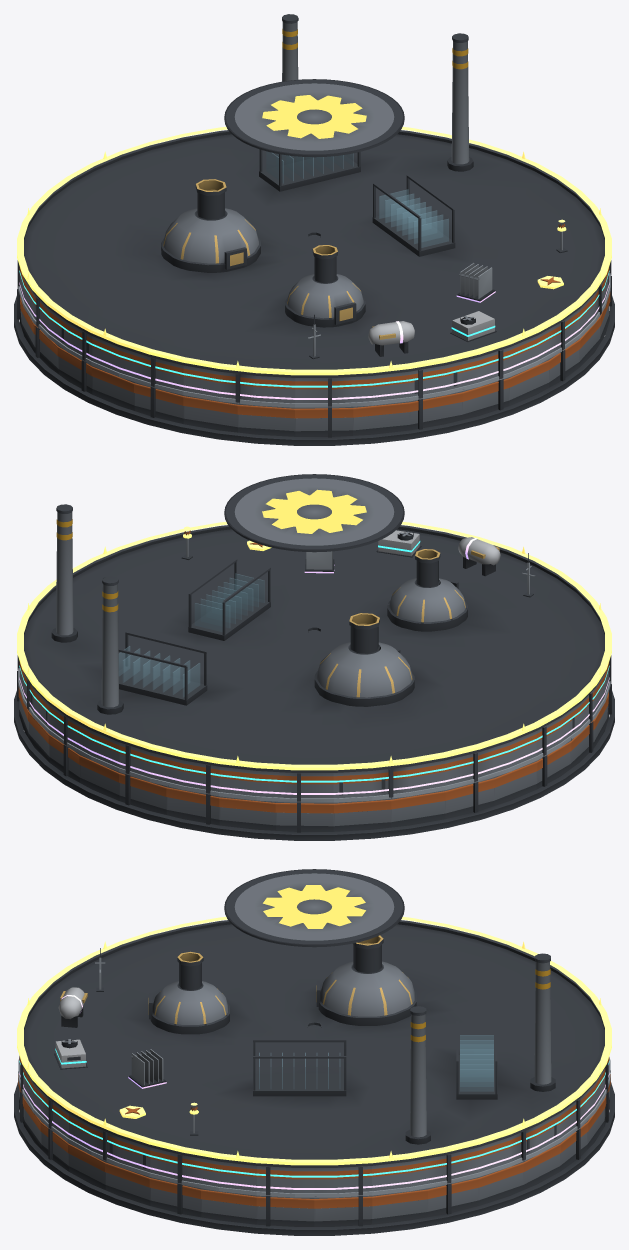
Rendered from glassworks_xl_far.glb.
3 views of the same model, one above another, from view 1: azimuth 30°, elevation 25°; view 2: azimuth 150°, elevation 25°; view 3: azimuth 270°, elevation 25° (orthographic).
Visible parts, largest first — view 1: Roof, Base, L5, L4, L2, L3; view 2: Roof, Base, L5, L2, L4, L3; view 3: Roof, Base, L5, L4, L2, L3.
Part boxes in pixels (box(x1,y1,x2,y2)): Roof: box(17, 14, 611, 406); Base: box(14, 276, 614, 445); L5: box(17, 127, 611, 375); L4: box(19, 263, 609, 399); L2: box(18, 273, 610, 407); L3: box(19, 232, 609, 387); Roof: box(17, 474, 611, 801); Base: box(14, 671, 614, 840); L5: box(17, 522, 611, 770); L2: box(18, 553, 610, 802); L4: box(19, 537, 609, 794); L3: box(19, 530, 609, 782); Roof: box(19, 869, 609, 1195); Base: box(14, 1070, 614, 1235); L5: box(17, 917, 611, 1165); L4: box(19, 987, 609, 1189); L2: box(18, 948, 610, 1197); L3: box(19, 1022, 609, 1177).
Bounding box in the file's own units: 23.15 × 8.58 × 23.15.
